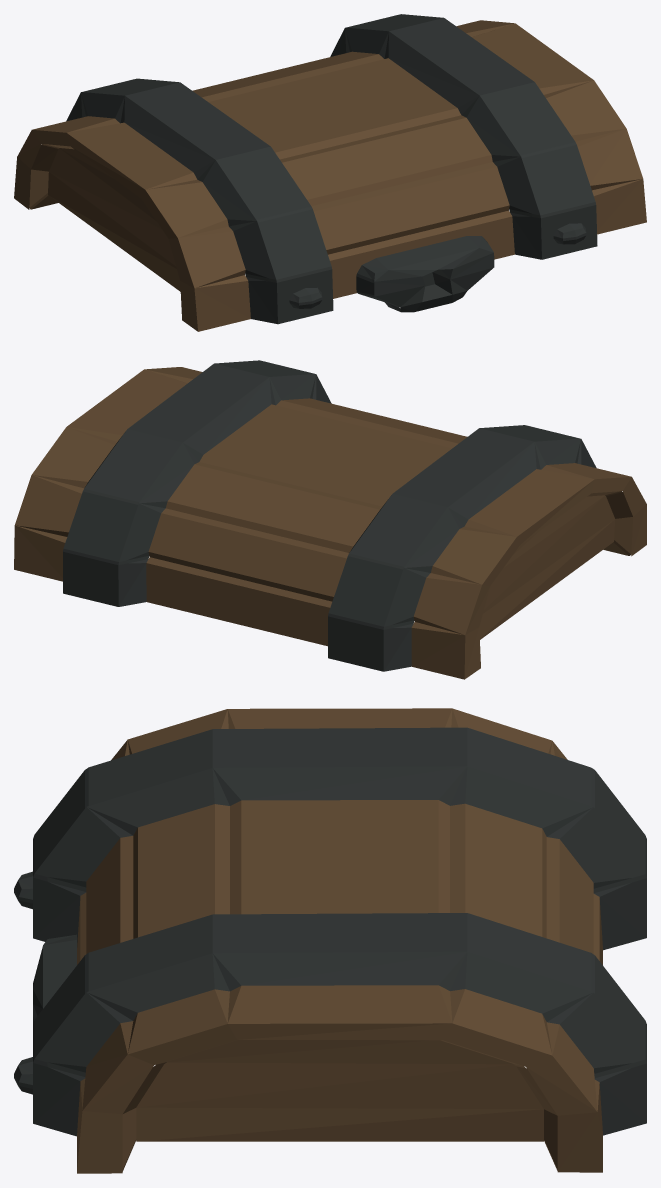
The model's file is common-lid.glb.
3 views of the same model, one above another, from view 1: azimuth 30°, elevation 25°; view 2: azimuth 150°, elevation 25°; view 3: azimuth 270°, elevation 25° (orthographic). The views are drawn at different scales.
Visible parts, largest first — view 1: Wood, Iron; view 2: Wood, Iron; view 3: Wood, Iron.
Boxes of the visible parts, box(x1,y1,x2,y2) form: Wood: box(14, 20, 646, 331); Iron: box(66, 14, 597, 324); Wood: box(14, 367, 646, 679); Iron: box(63, 360, 596, 671); Wood: box(77, 708, 602, 1173); Iron: box(14, 727, 646, 1136).
Size of the model in its own units: 0.9406 by 0.2919 by 0.794.
